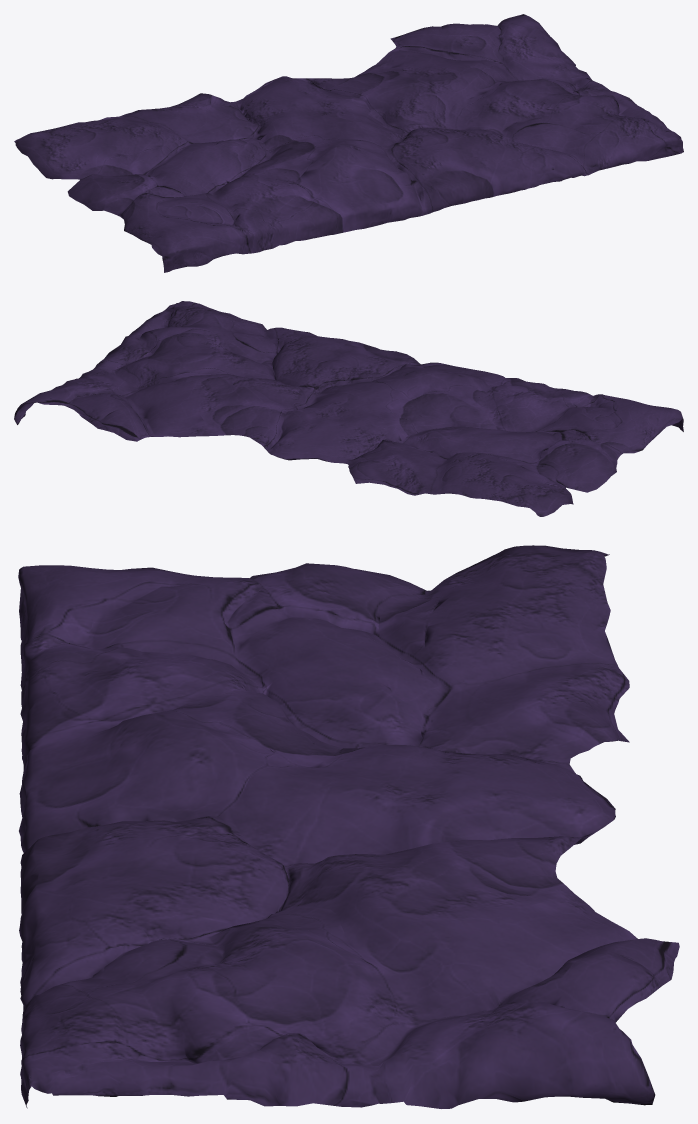
Rendered from RockWall_Plateau.FBX.
3 views of the same model, one above another, from view 1: azimuth 30°, elevation 25°; view 2: azimuth 150°, elevation 25°; view 3: azimuth 270°, elevation 25° (orthographic). The views are drawn at different scales.
Parts seen in each view (by area): view 1: TopPlate; view 2: TopPlate; view 3: TopPlate.
Part boxes in pixels (x1,y1,x2,y2): TopPlate: (14, 14, 683, 272); TopPlate: (14, 301, 683, 516); TopPlate: (18, 545, 679, 1108).
Size of the model in its own units: 3.34 by 0.2749 by 1.83.
Materials: 1 (1 with a texture image).
